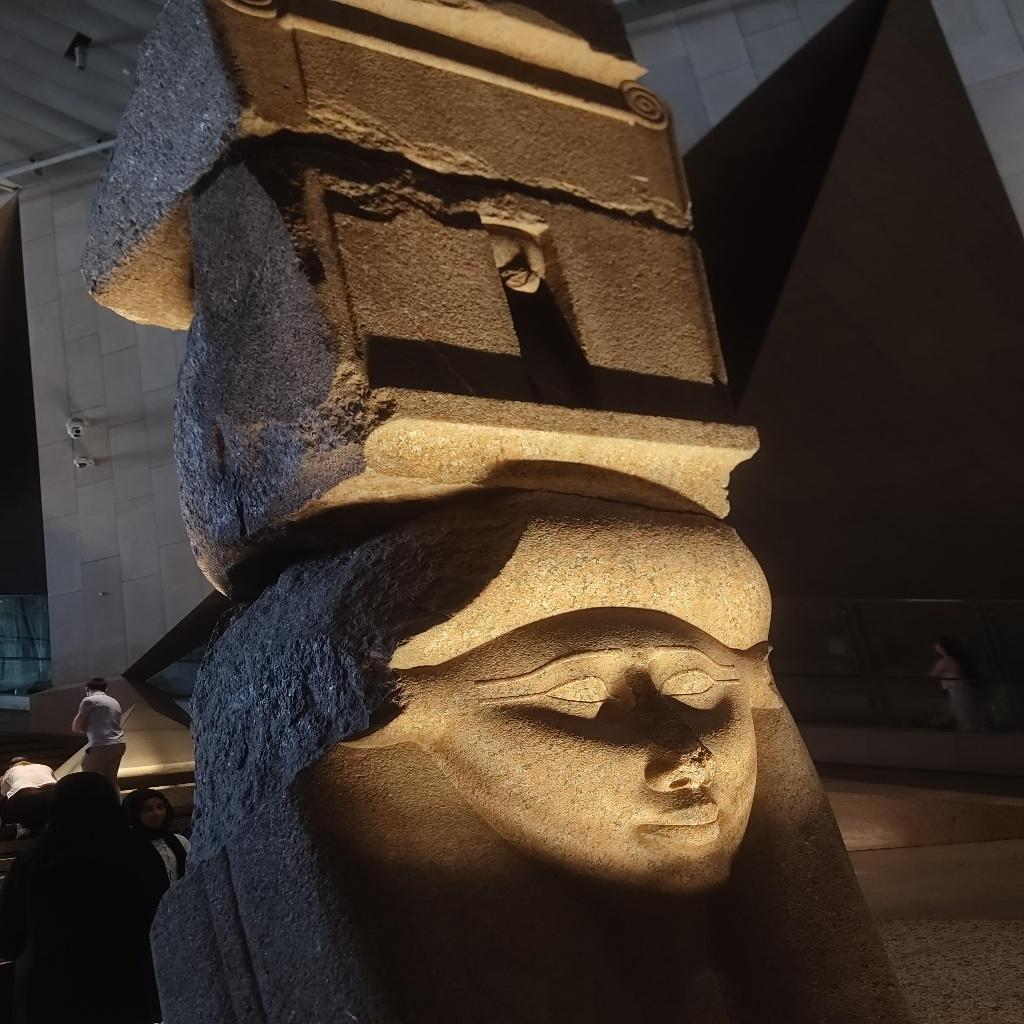Hathor Capital: (167, 2, 851, 912)
